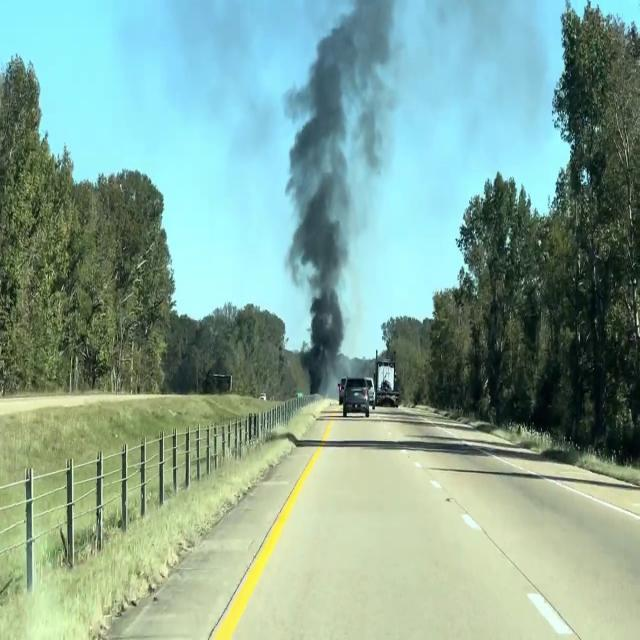Smoke: (279, 1, 409, 376)
